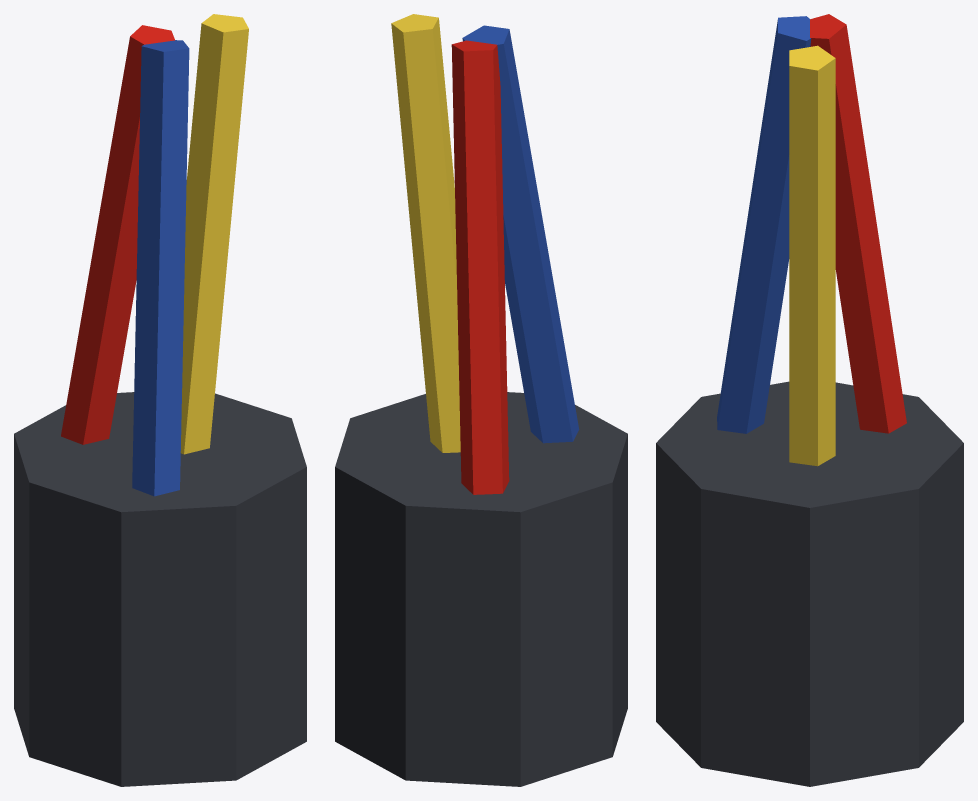
File: pencil_cup.fbx
3 views of the same model, side by side, from view 1: azimuth 30°, elevation 25°; view 2: azimuth 150°, elevation 25°; view 3: azimuth 270°, elevation 25° (orthographic).
Parts seen in each view (by area): view 1: pencil_cup; view 2: pencil_cup; view 3: pencil_cup.
Boxes of the visible parts, <box> form: pencil_cup: <box>14,14,306,786</box>; pencil_cup: <box>335,14,627,786</box>; pencil_cup: <box>656,14,963,786</box>.
Bounding box in the file's own units: 0.12 × 0.3004 × 0.12.
